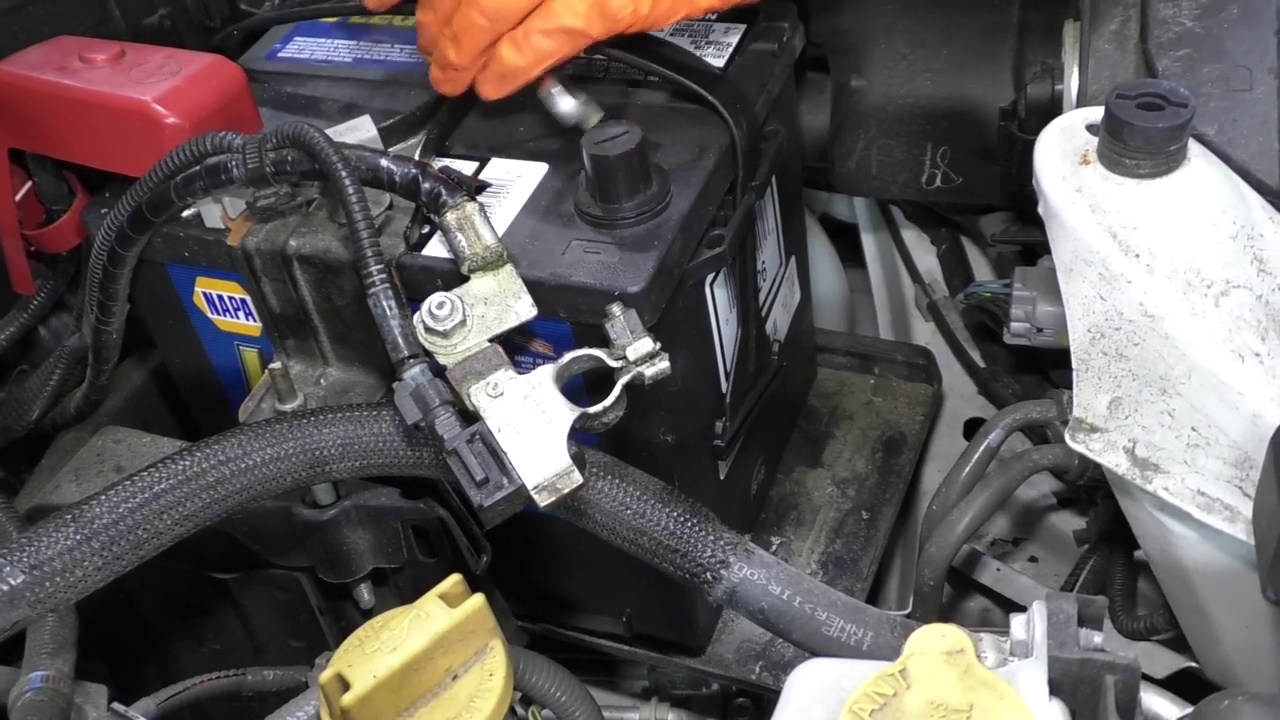battery: (149, 3, 811, 307)
pos_connected: (1, 30, 286, 281)
